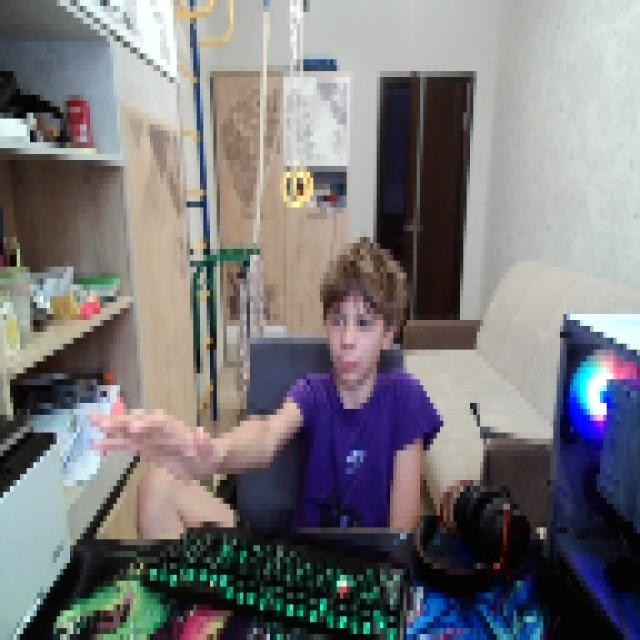hand: (86, 391, 216, 486)
